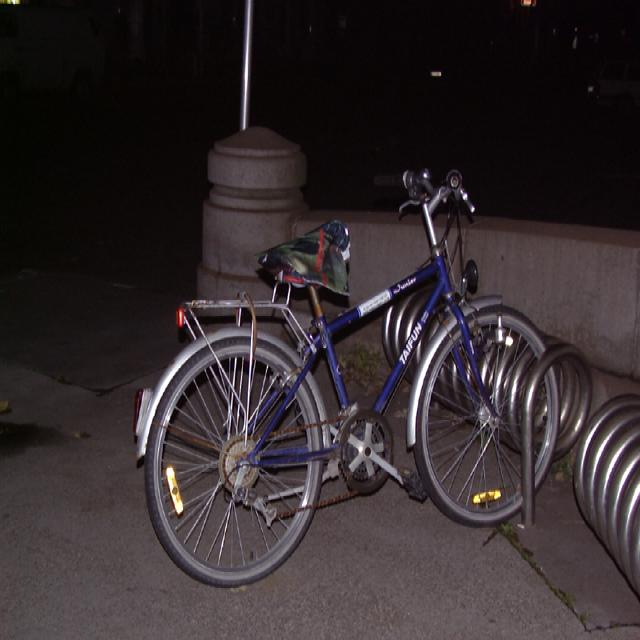bicycle: (133, 166, 560, 586)
